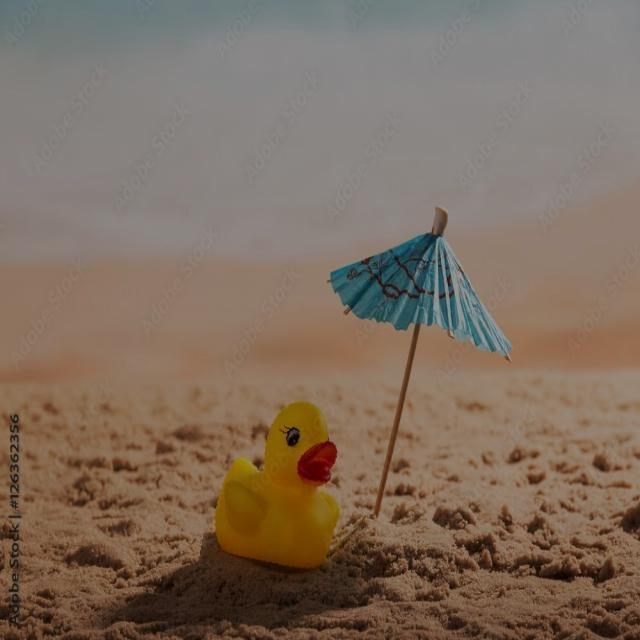rubber-duck: (215, 401, 337, 566)
